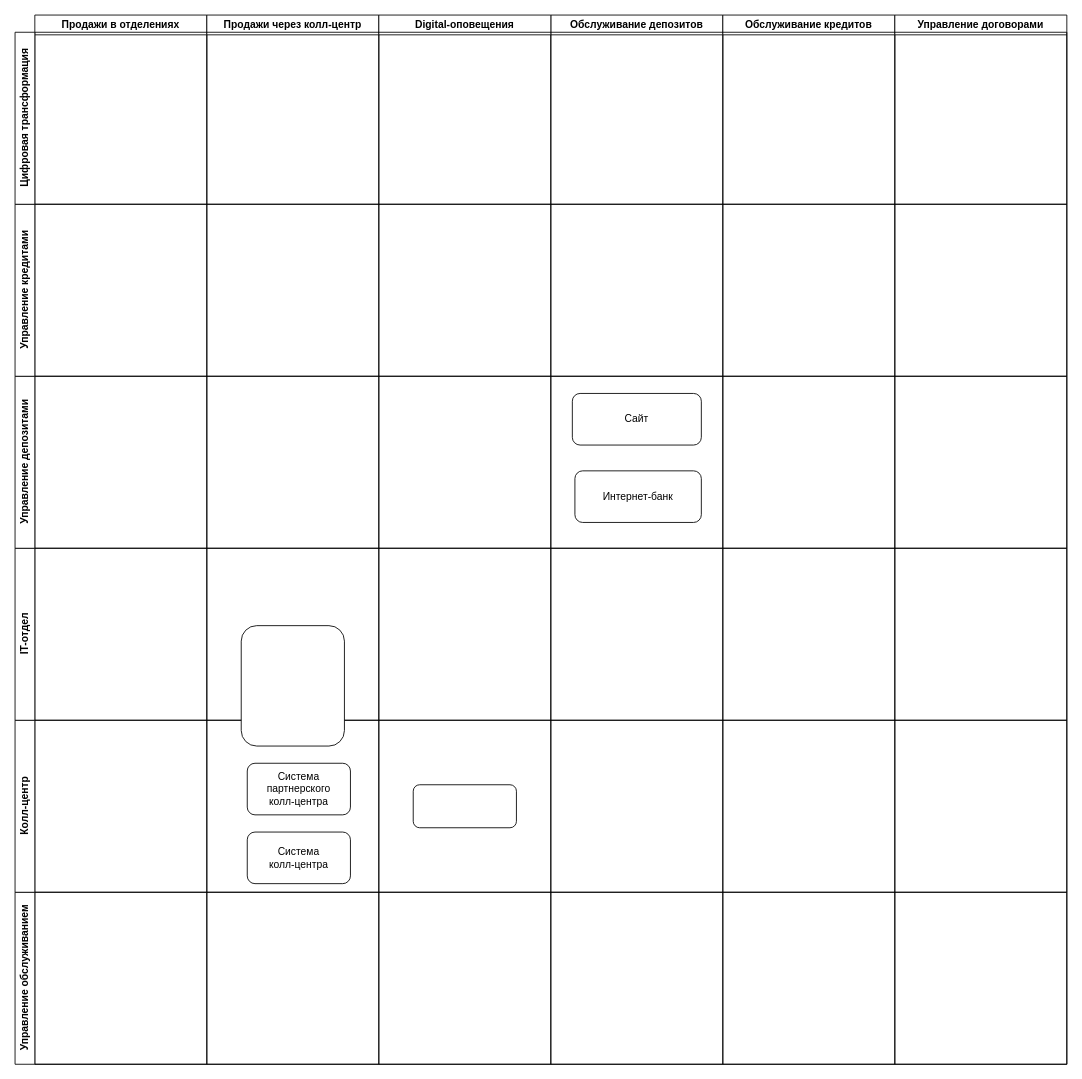
The diagram is 1082 pixels wide and 1079 high, and some of its shapes have lost their labels. Each missing label, with the centre of its shape:
SMS шлюз: the point at 292,685
Телеком оператор: the point at 464,806
